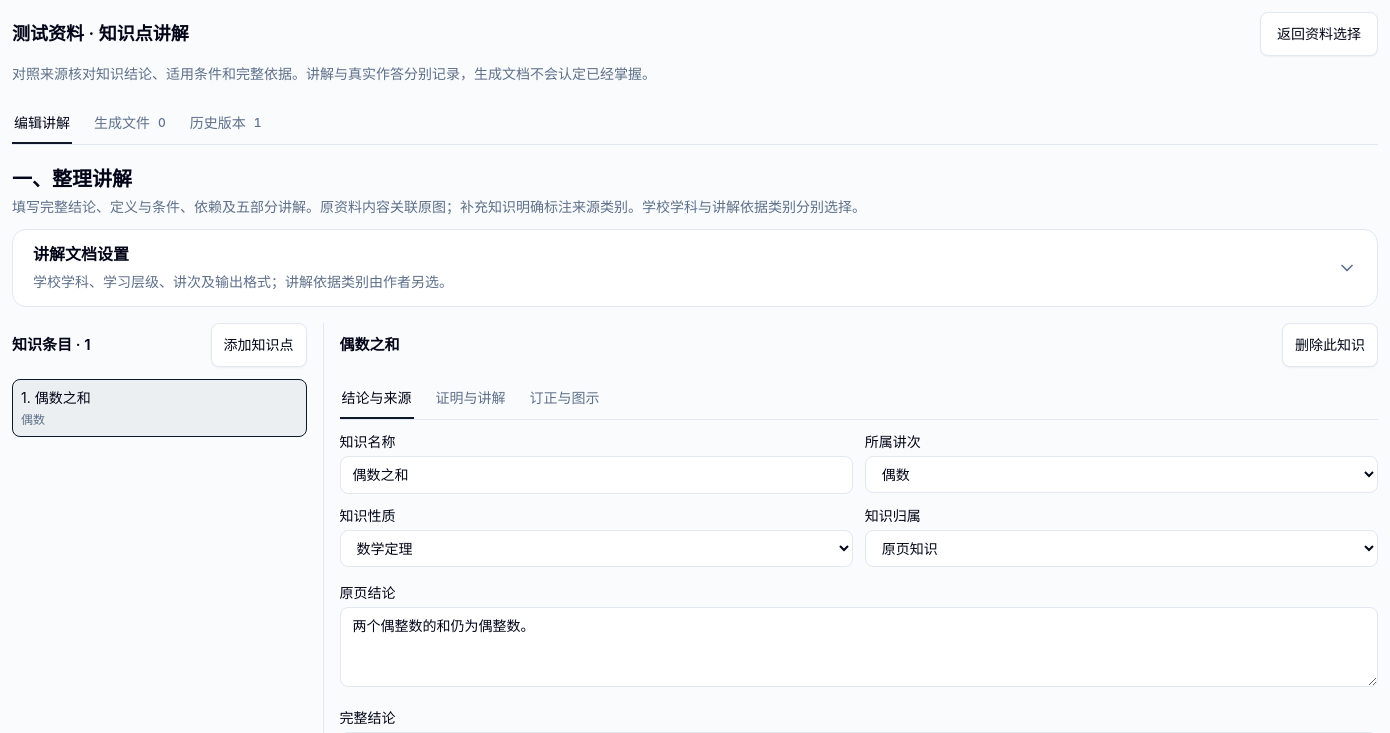
Test: knowledge companion workspace › ignores an expired-session response for history after the work area was left
Expected: the heading "测试资料 · 知识点讲解" is shown, [12,20,189,48]
Step 1. Click the tab "历史版本 1" → {"x": 226, "y": 124}, box [188,104,264,144]
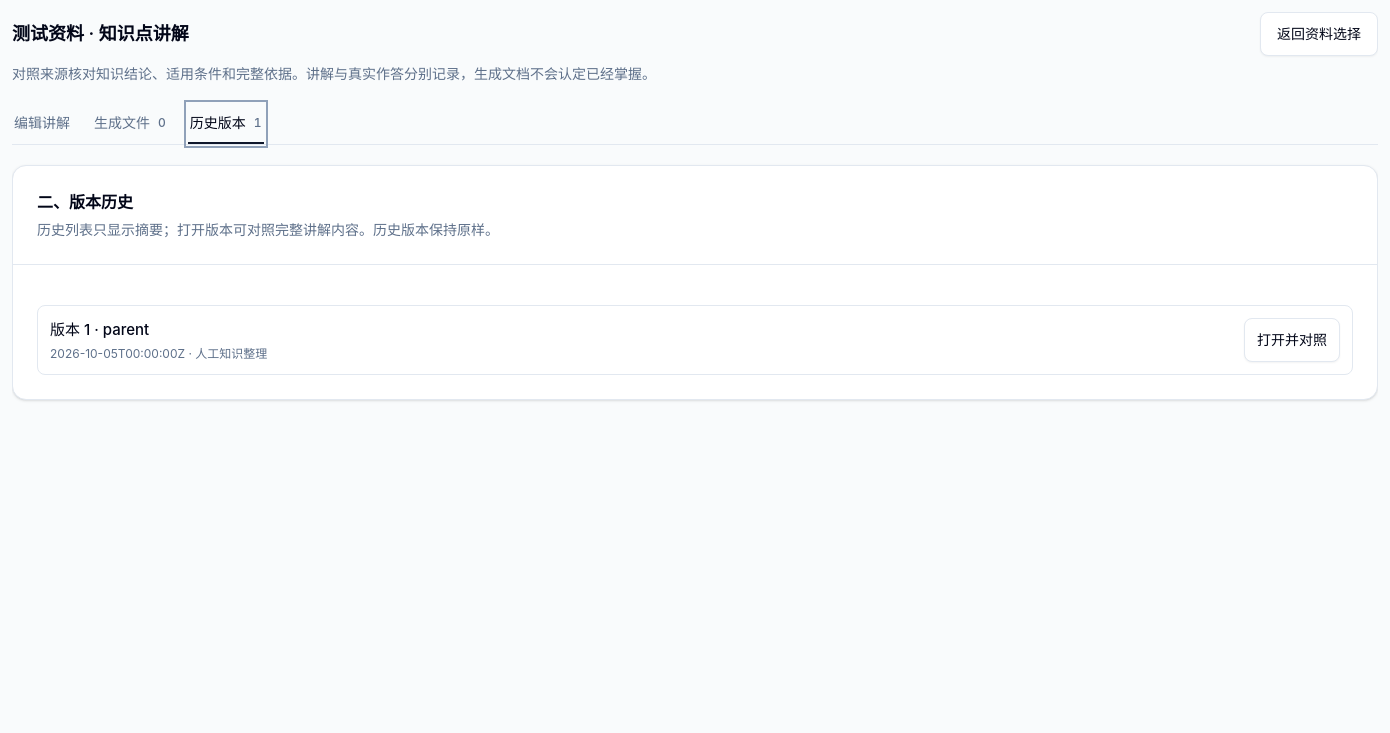
Step 2. Click the button "打开并对照" → {"x": 1292, "y": 340}, box [1244,318,1340,362]
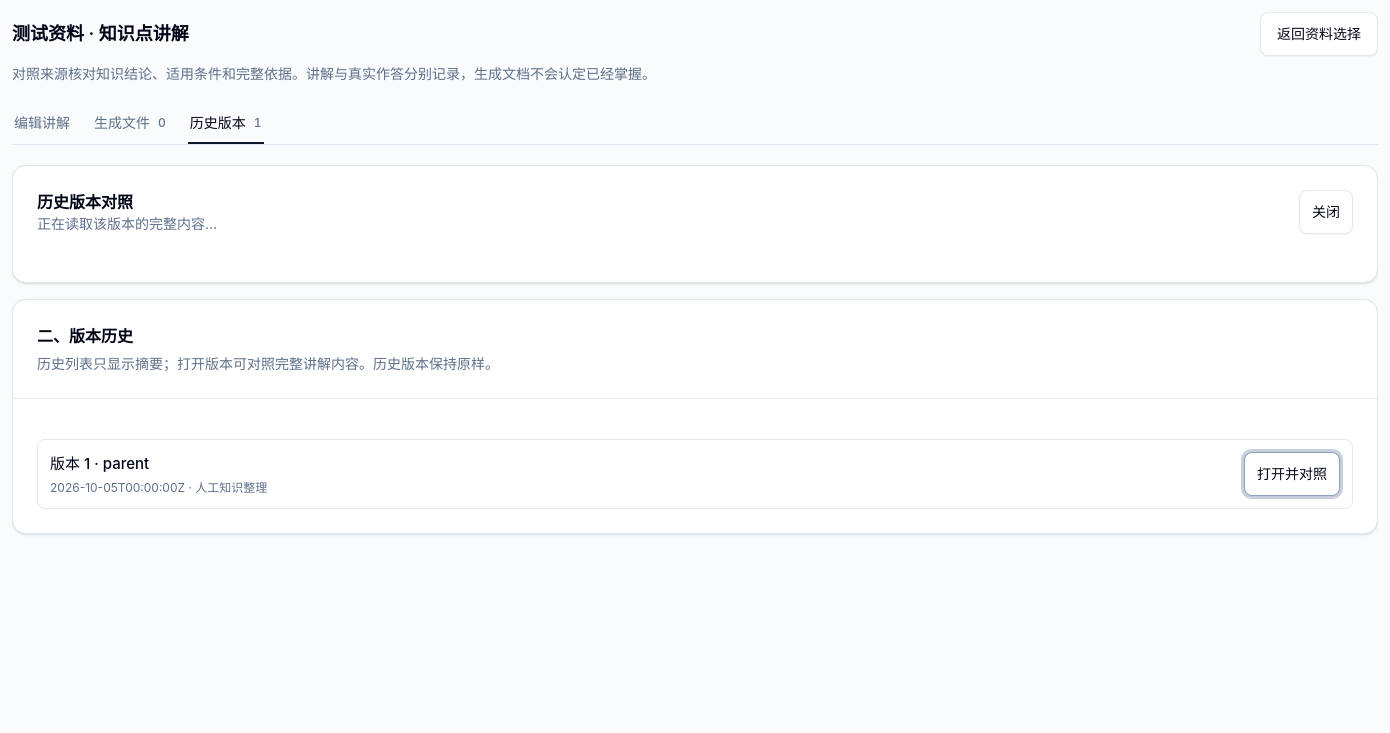
Expected: the text "正在读取该版本的完整内容…" is shown, [37,214,217,234]
